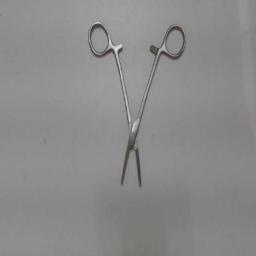Mayo Needle Holder: (86, 18, 190, 194)
